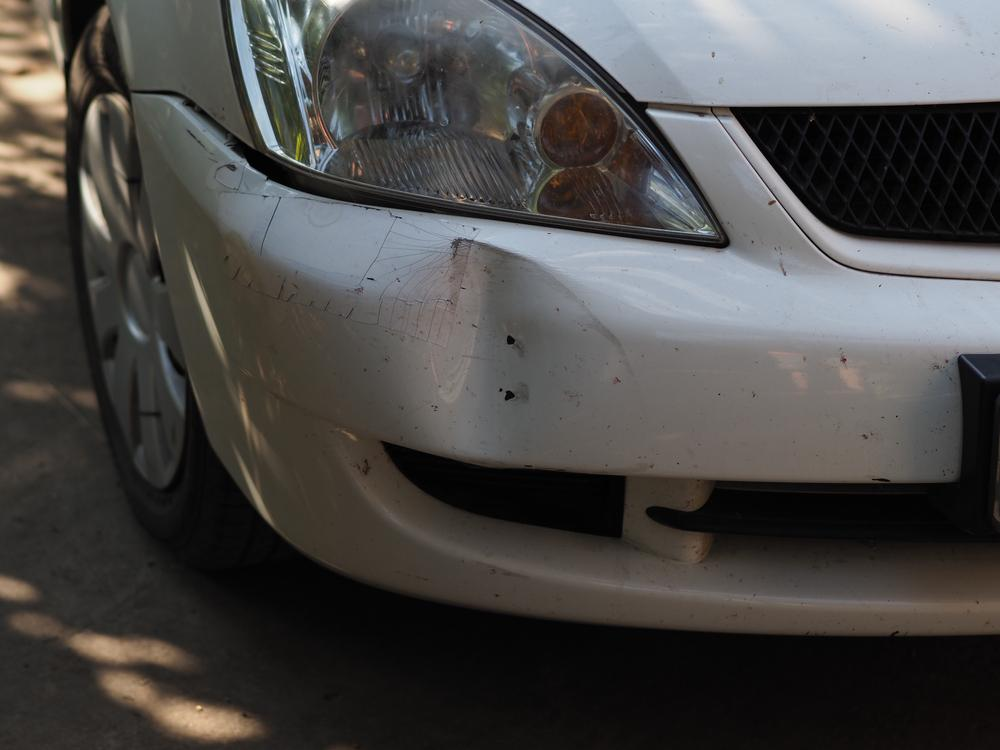dent: (406, 239, 538, 446)
